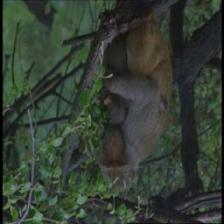monkey: (87, 127, 141, 192), (96, 92, 130, 124)
